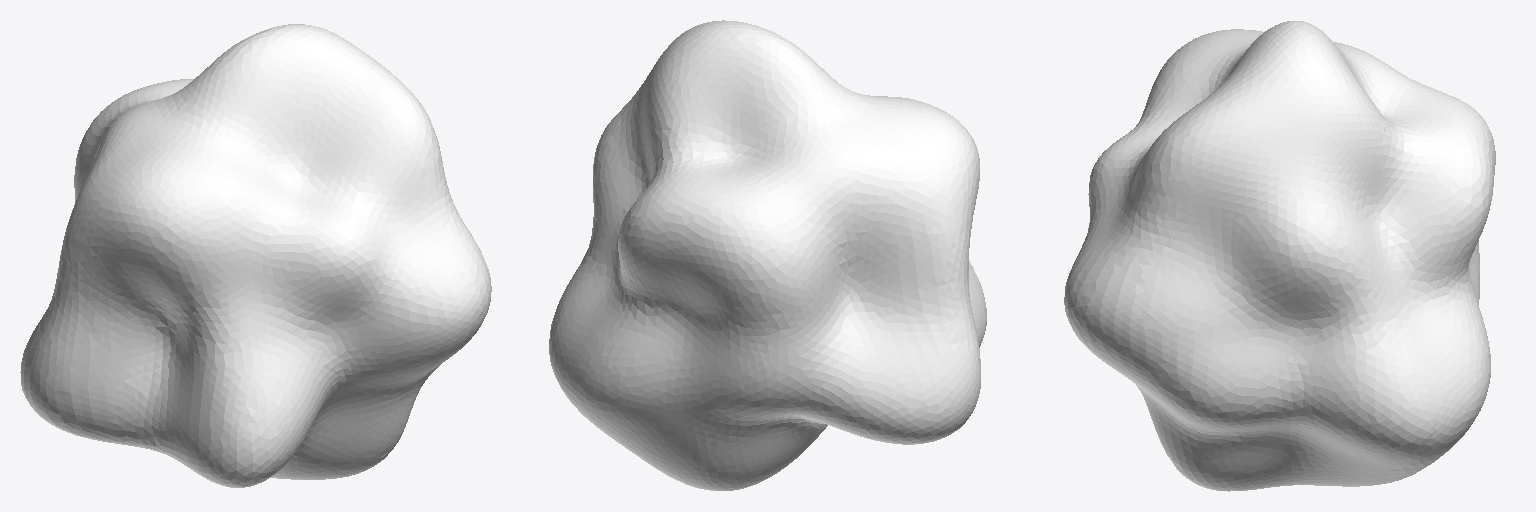
The robot description file, URDF, robot "BigGlaven6":
<robot name="BigGlaven6">
	<link name="_name">
		<visual>
			<origin rpy="0 0 0" xyz="-0.0003898608448357467 0.0002950862438872135 -6.335409694232193e-06" />
			<geometry>
				<mesh filename="BigGlaven6.obj" scale="0.001 0.001 0.001" />
			</geometry>
			<material name="texture">
				<color rgba="1.0 1.0 1.0 1.0" />
			</material>
		</visual>
		<collision>
			<geometry>
				<mesh filename="BigGlaven6_vhacd.obj" scale="0.001 0.001 0.001" />
			</geometry>
		<origin rpy="0 0 0" xyz="-0.0003898608448357467 0.0002950862438872135 -6.335409694232193e-06" /></collision>
		<inertial>
			<mass value="1.0" />
			<inertia ixx="1.0" ixy="0.0" ixz="0.0" iyy="1.0" iyz="0.0" izz="1.0" />
		</inertial>
	</link>
</robot>

--- Facts derived from the render (not from the file) ---
3 views of the same robot in one strip: view 1: azimuth 30°, elevation 25°; view 2: azimuth 150°, elevation 25°; view 3: azimuth 270°, elevation 25° (orthographic).
Model BigGlaven6 with 1 links and 0 joints (none), rooted at _name, posed all joints at 0.
Visible links, largest first — view 1: _name; view 2: _name; view 3: _name.
Boxes of the visible links, box(x1,y1,x2,y2) form: _name: box(20, 24, 491, 487); _name: box(549, 20, 986, 490); _name: box(1064, 21, 1495, 491).
Size in the robot's own frame: 0.0431 by 0.04 by 0.0465 metres.
Meshes: 1 distinct files referenced, 1 mesh visuals loaded (1 OBJ).
